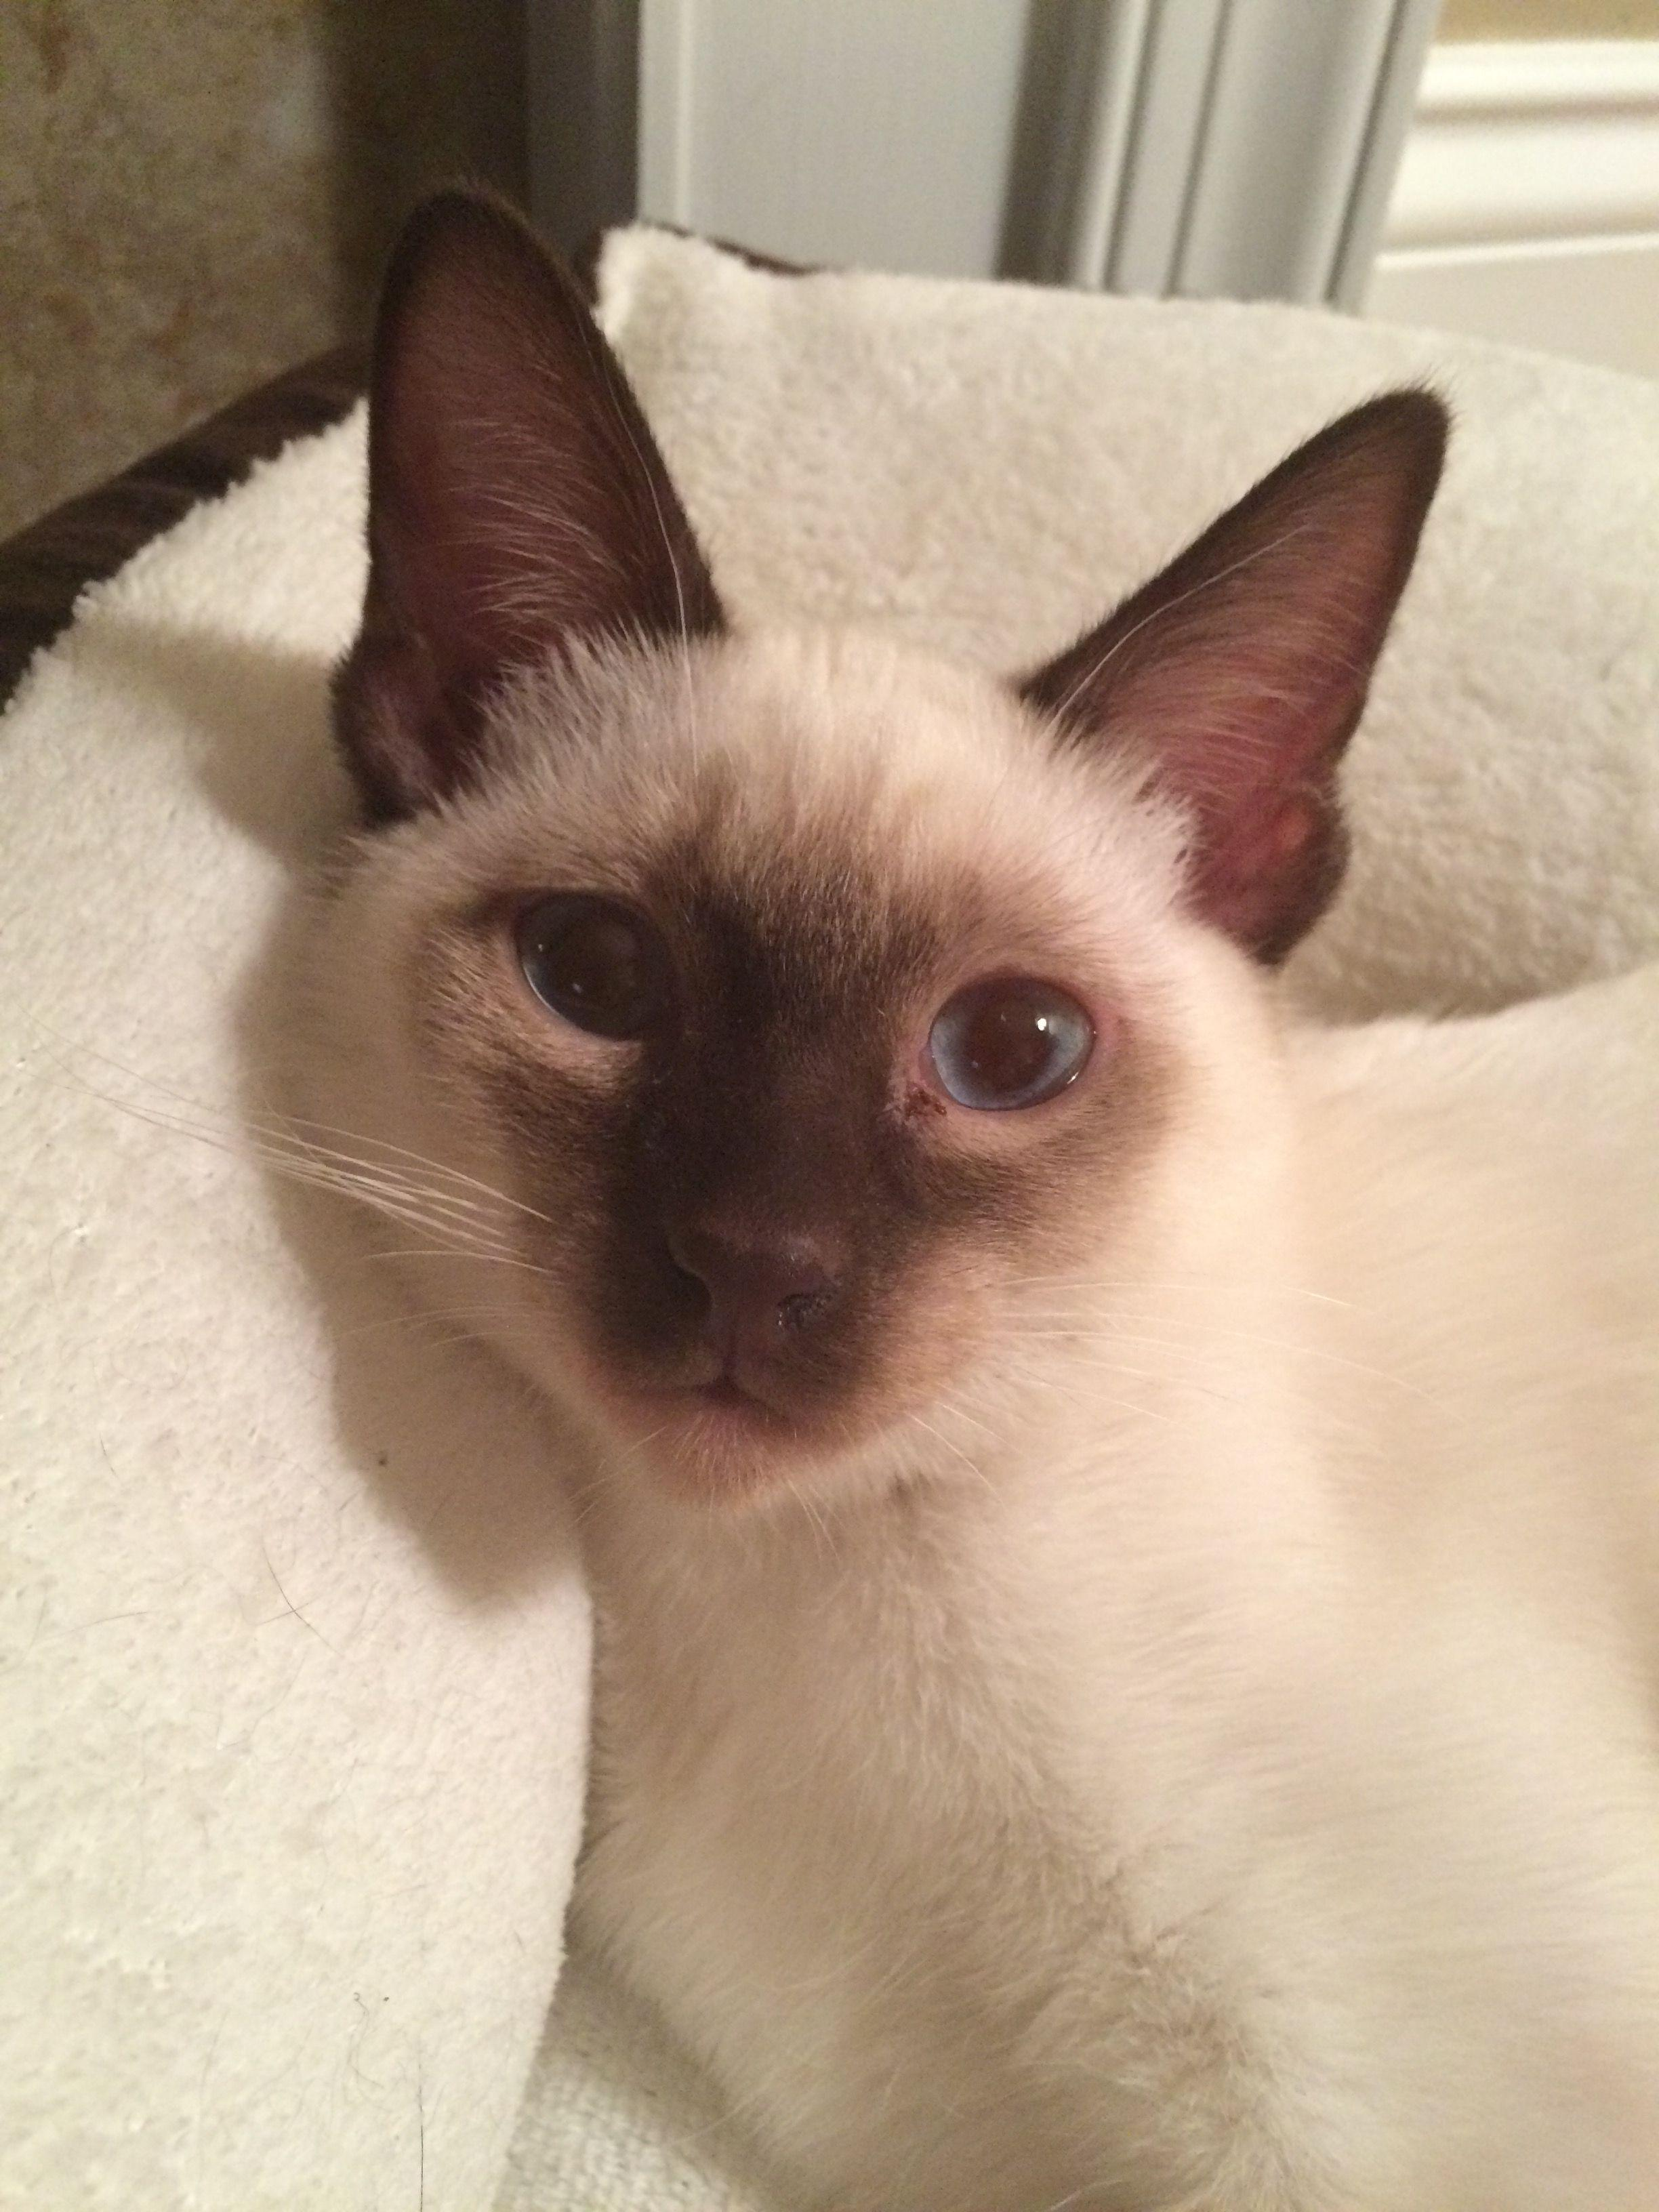siamese: (265, 164, 1471, 1529)
